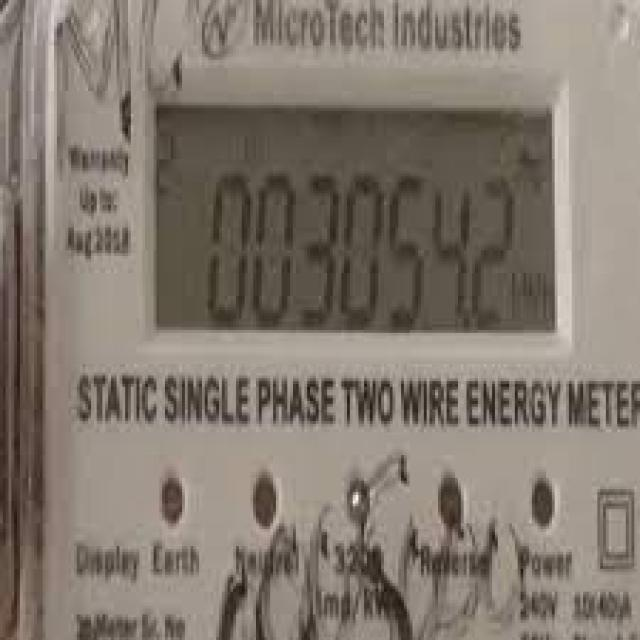0: (205, 167, 250, 325), (252, 169, 296, 325), (340, 168, 376, 328)
2: (478, 168, 524, 328)
3: (302, 169, 339, 327)
4: (432, 171, 472, 329)
5: (388, 172, 431, 328)
Digital meter: (156, 104, 556, 334)
